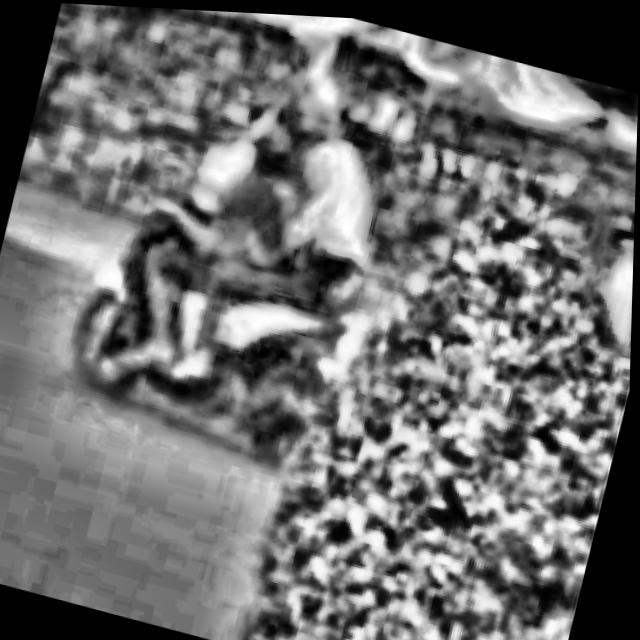motorcycle: (62, 143, 407, 476)
